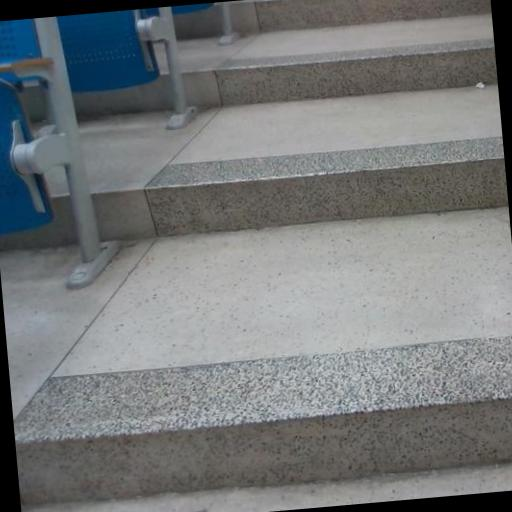stairs: (14, 0, 511, 504)
